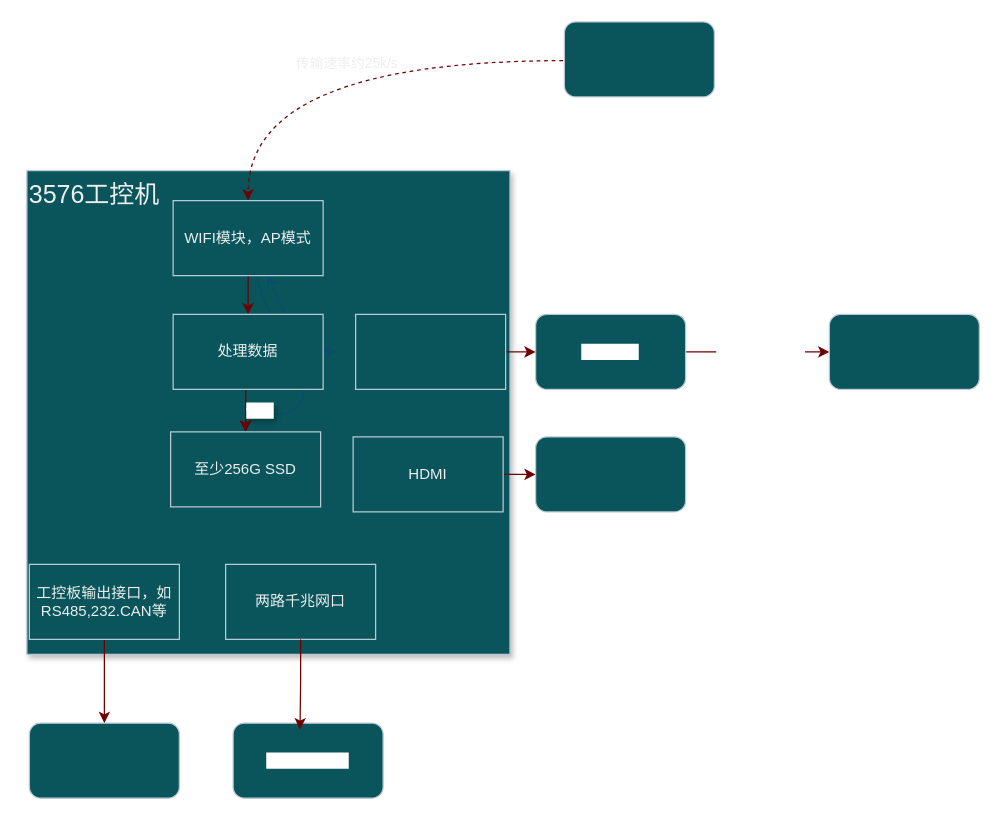
Image size: 1001x820. Some labels were removed from this diagram. Here are the shapes that lost their labels. From the top down, the centre of each, then its label:
(x=638, y=59): 无线模块
(x=430, y=351): PWM
(x=903, y=351): 模组
(x=610, y=474): 显示屏等
(x=103, y=760): 带控制器或IO扩展的指示灯
